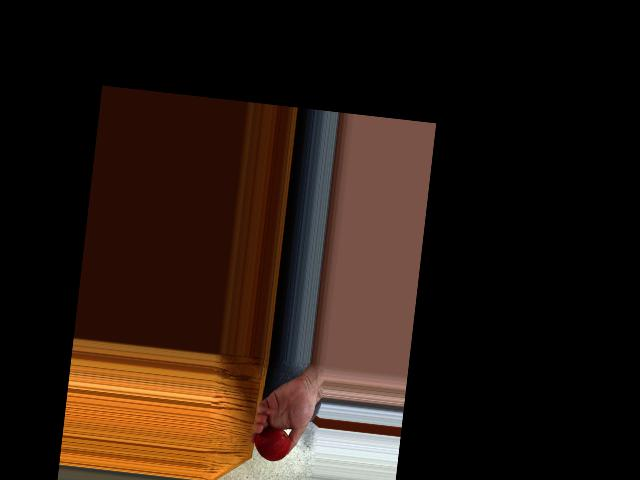apple: (253, 425, 292, 464)
